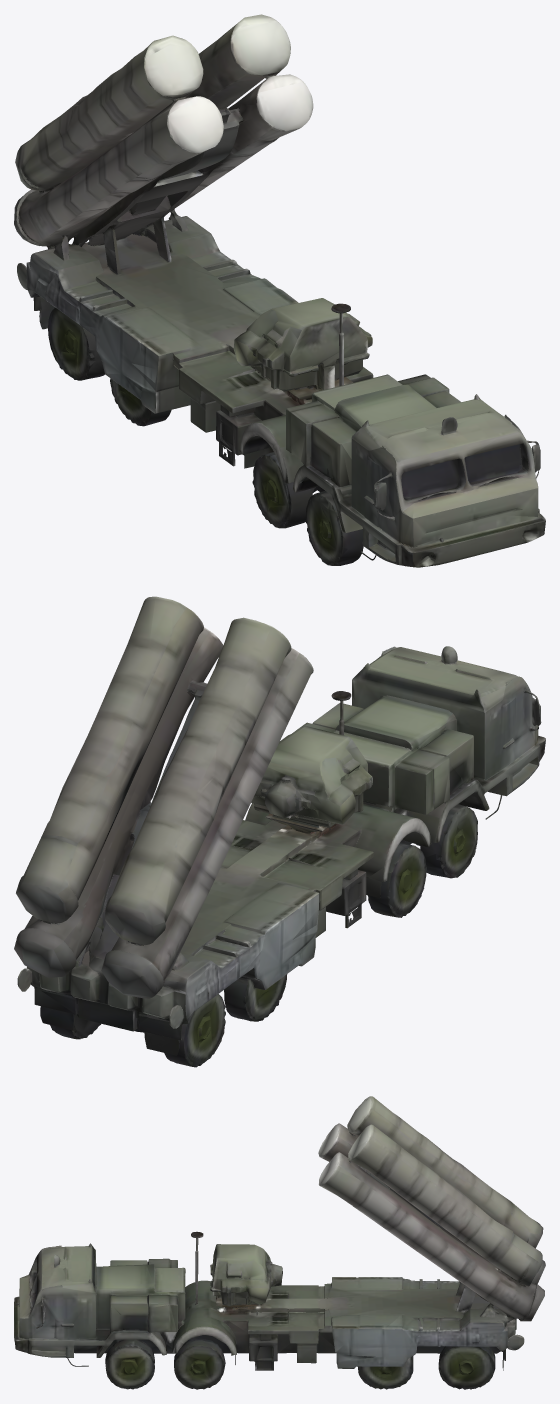
3 views of the same model, one above another, from view 1: azimuth 30°, elevation 25°; view 2: azimuth 150°, elevation 25°; view 3: azimuth 270°, elevation 25° (orthographic). The views are drawn at different scales.
Parts seen in each view (by area): view 1: Object_2; view 2: Object_2; view 3: Object_2.
Part boxes in pixels (bbox=[...]): Object_2: bbox=[14, 14, 545, 567]; Object_2: bbox=[14, 596, 545, 1067]; Object_2: bbox=[14, 1096, 545, 1389].
Bounding box in the file's own units: 0.4504 × 1 × 1.9.
Materials: 1 (1 with a texture image).
